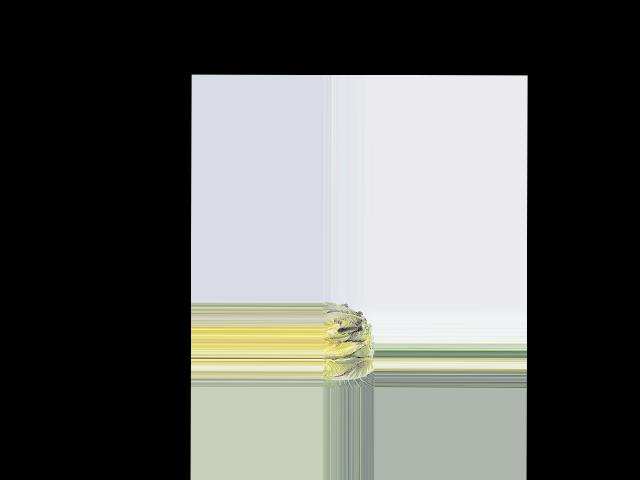lettuce: (322, 305, 372, 387)
